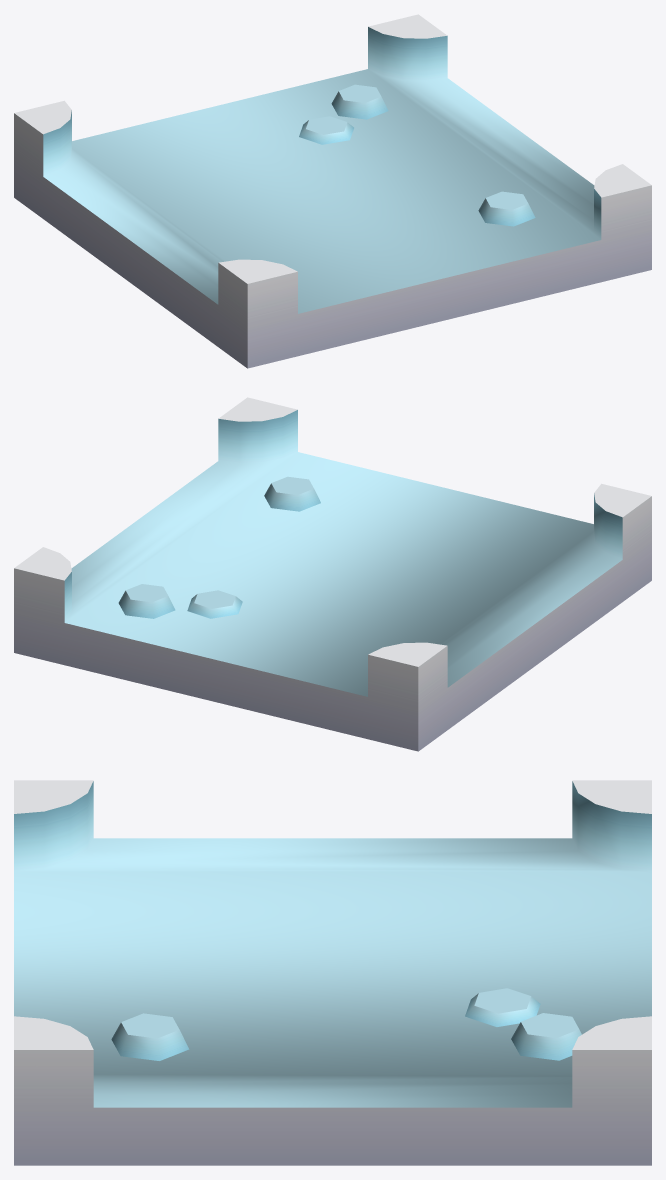
Rendered from kenney-tower-defense-snow-tile-crossing.glb.
The picture shows the model from 3 angles, top to bottom: view 1: azimuth 30°, elevation 25°; view 2: azimuth 150°, elevation 25°; view 3: azimuth 270°, elevation 25°; orthographic projection. The views are drawn at different scales.
Visible parts, largest first — view 1: snow-tile-crossing; view 2: snow-tile-crossing; view 3: snow-tile-crossing.
Boxes of the visible parts, <box> form: snow-tile-crossing: <box>14,14,651,368</box>; snow-tile-crossing: <box>14,397,651,751</box>; snow-tile-crossing: <box>14,780,651,1165</box>.
Bounding box in the file's own units: 1 × 0.2 × 1.
Materials: 1 (1 with a texture image).
